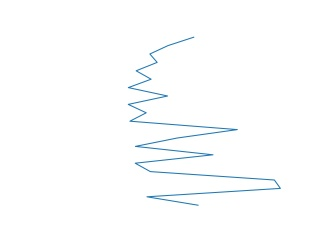crevasseRiverBedLagDeposit: (123, 36, 285, 211)
